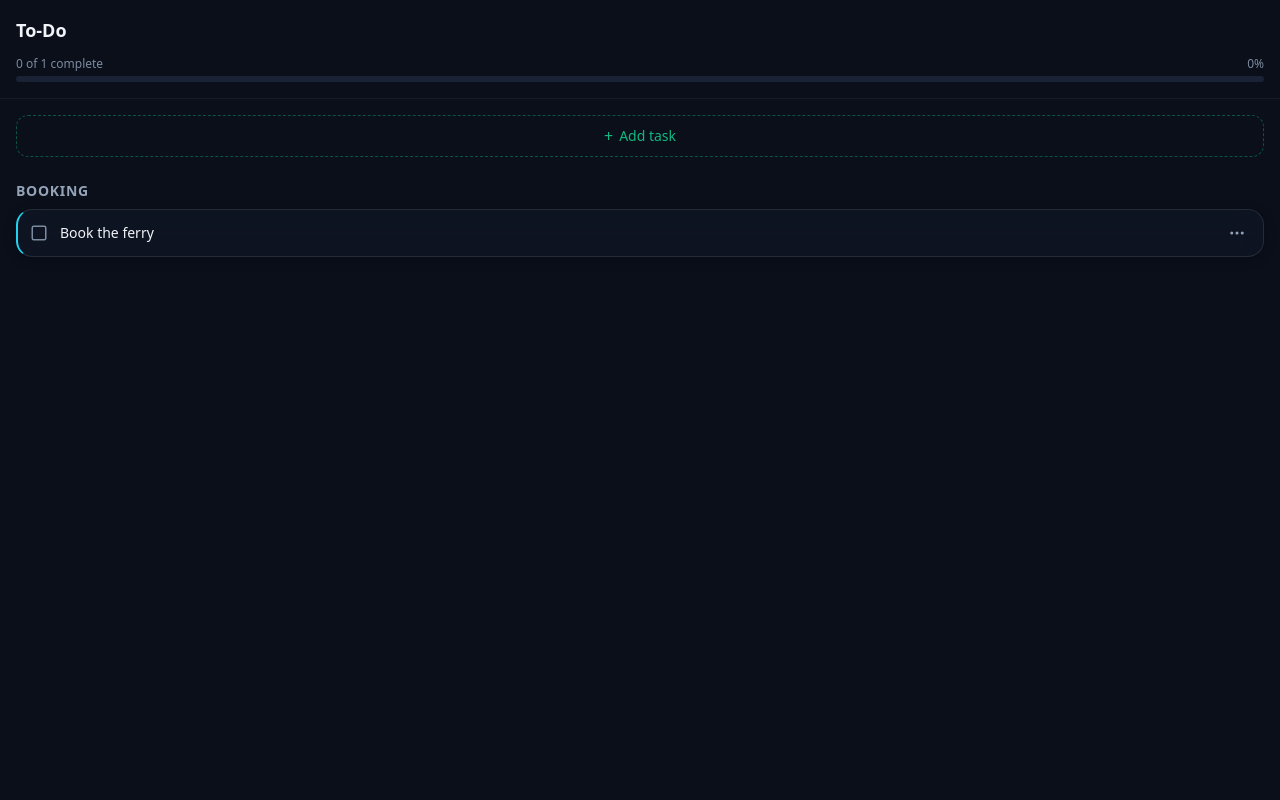
Test case: to-do rows keep their actions in one menu › opens the title for editing
Click the button named "More actions for Book the ferry". click: (1237, 233)
box: [1215,211,1259,255]
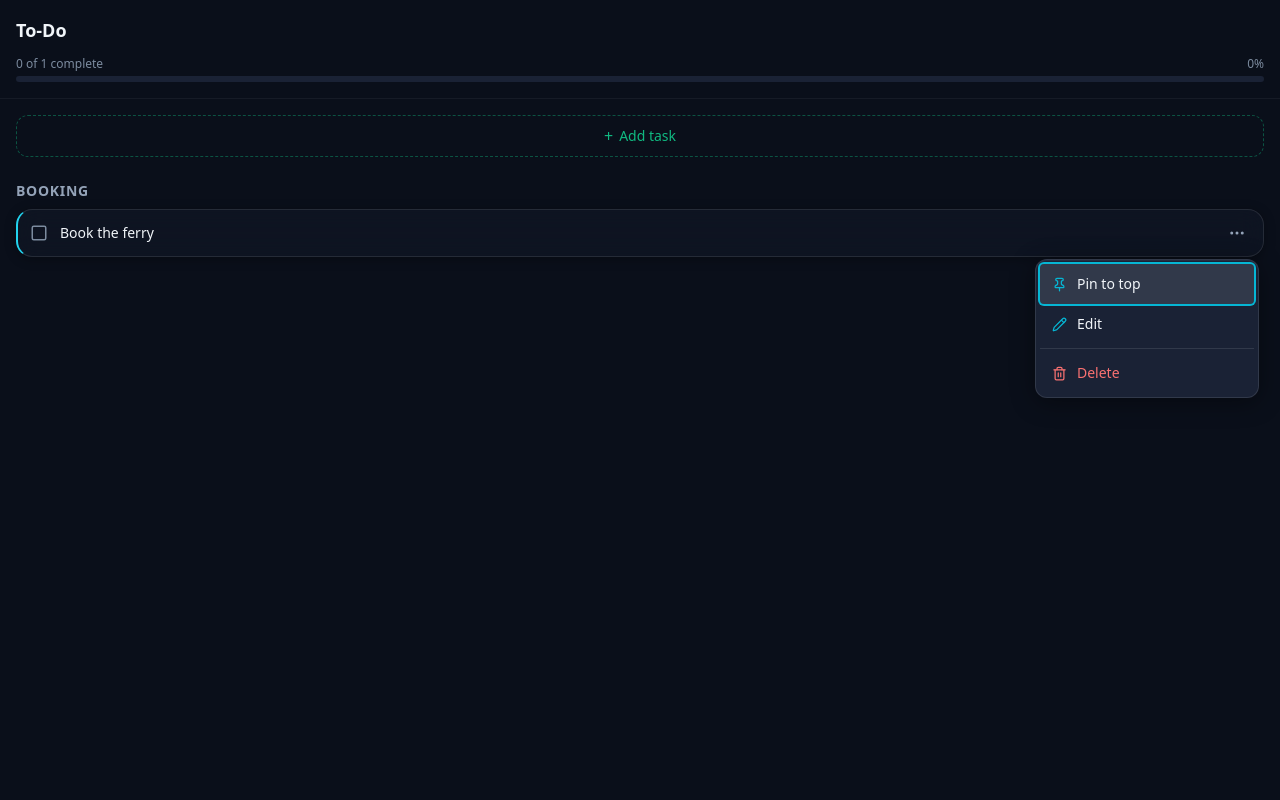
Click the menu item with test id "task-edit". click: (1147, 324)
box: [1040,304,1254,344]
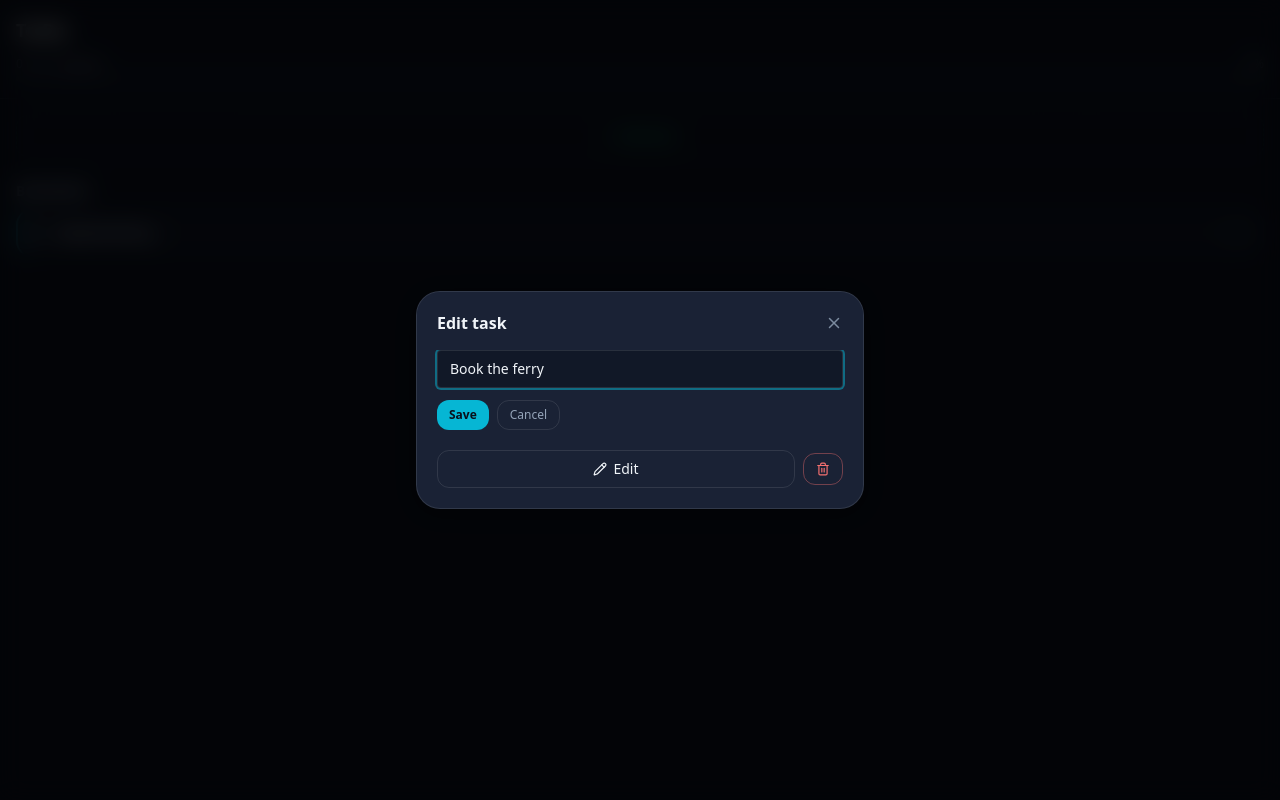
Result: the field named "Edit title" holds "Book the ferry" at [437,350,843,388]
